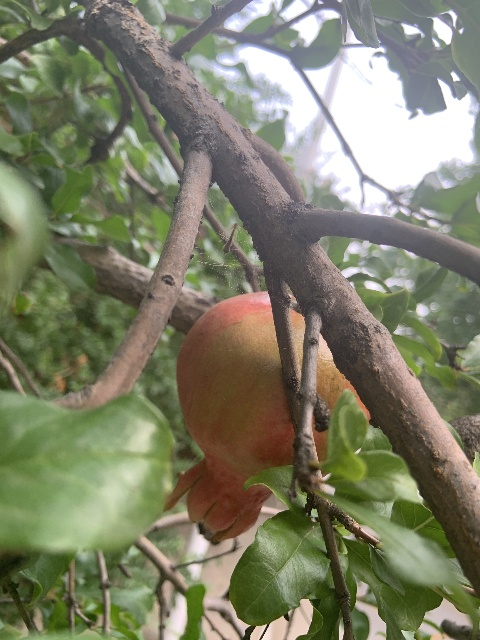ripe: (161, 290, 370, 545)
